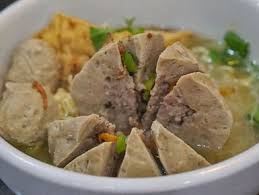bakso: (5, 35, 252, 185)
